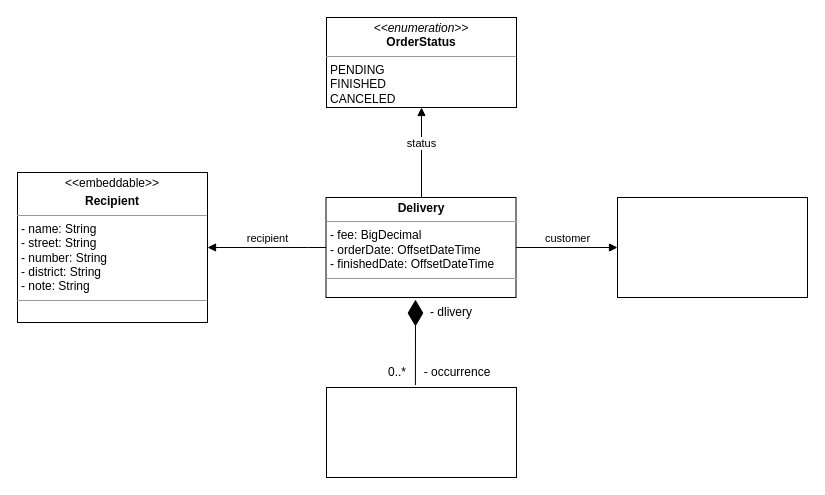
The diagram is 825 pixels wide and 495 high, and some of its shapes have lost their labels. The centre of each missing label's shape, as x and y in pixels:
"Customer - name: String - email: String - phone: String" goes at point 712,247.
"Occurrence - description: String - registerDate: OffsetDateTime" goes at point 421,432.
